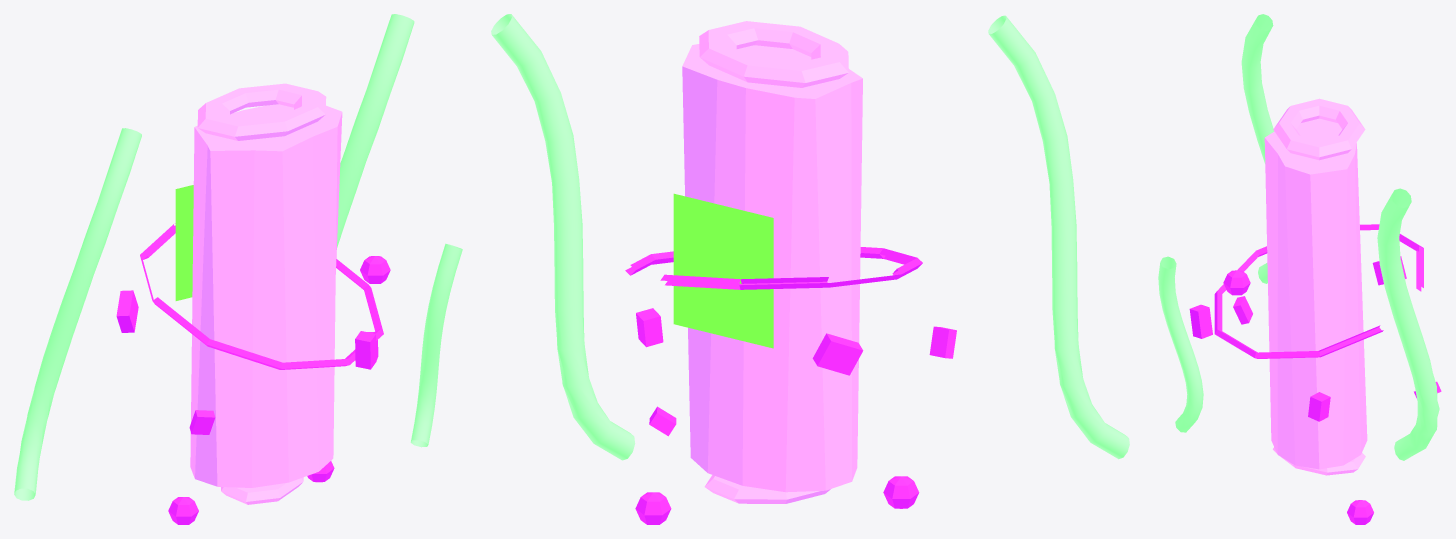
Rendered from corrupted_shell_script.glb.
3 renders of one model, left to right at view 1: azimuth 30°, elevation 25°; view 2: azimuth 150°, elevation 25°; view 3: azimuth 270°, elevation 25°, orthographic. The views are drawn at different scales.
Parts seen in each view (by area): view 1: CorruptedShellScript; view 2: CorruptedShellScript; view 3: CorruptedShellScript.
Part boxes in pixels (box(x1,y1,x2,y2)): CorruptedShellScript: box(14, 14, 462, 524); CorruptedShellScript: box(491, 14, 1129, 524); CorruptedShellScript: box(1158, 14, 1441, 524).
Bounding box in the file's own units: 1.76 × 1.62 × 1.03.
